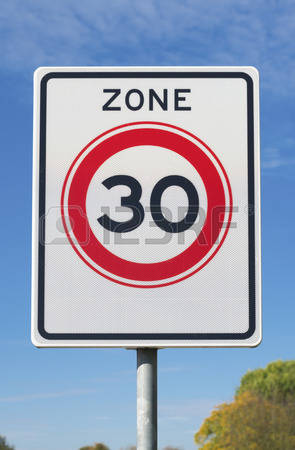Speed_limit_30km: (62, 121, 234, 284)
